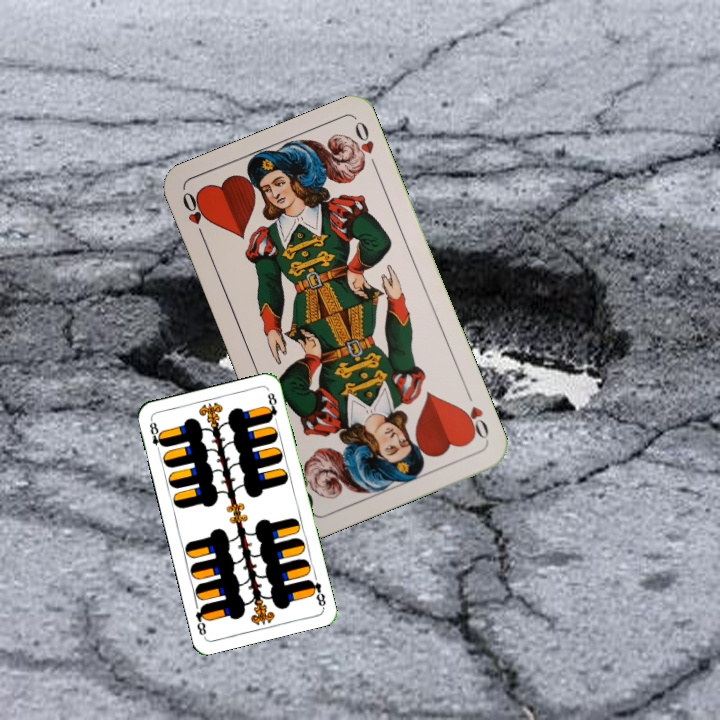E8: (145, 416, 167, 456), (304, 575, 328, 610)
HO: (457, 387, 492, 443), (178, 187, 209, 245)
